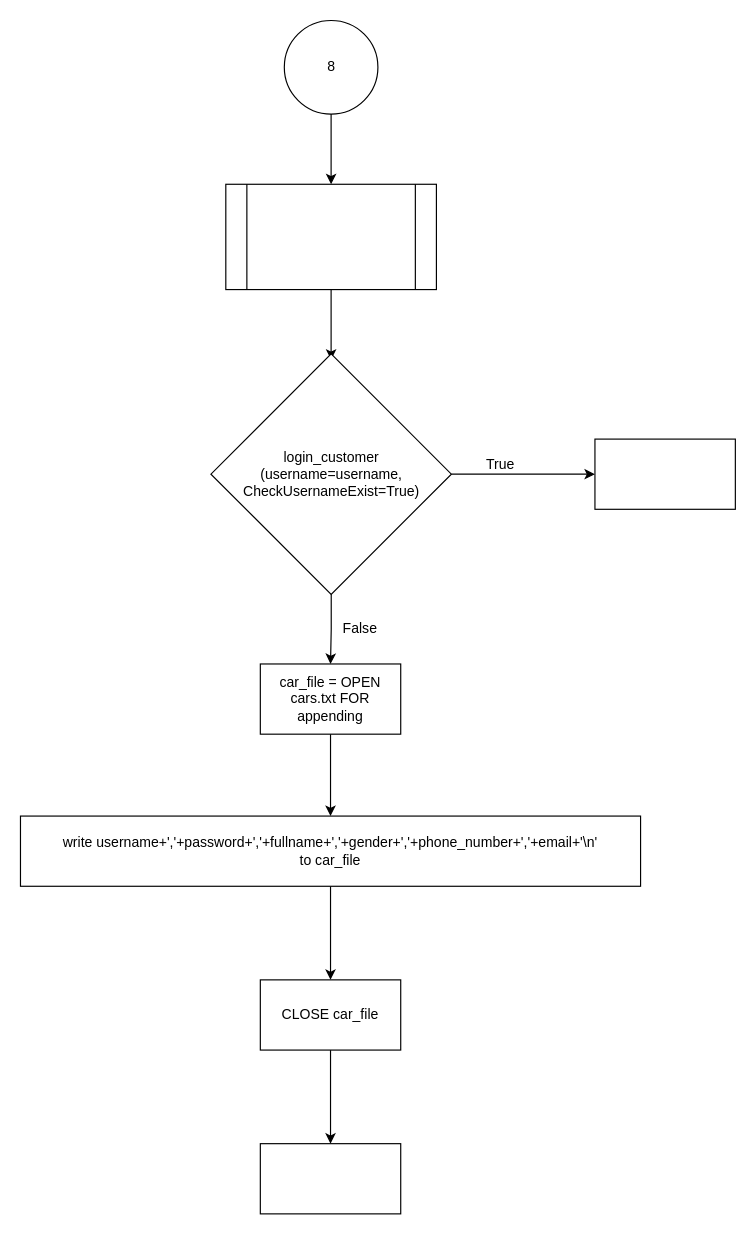
Some shapes in this 756 by 1234 pixel diagram are drawn without their labels. The centre of each missing label's shape, as x and y in pixels:
DEFINE FUNCTION file_handling .register_new_customer(): the point at 330,236
return False: the point at 664,473
return True: the point at 330,1178
